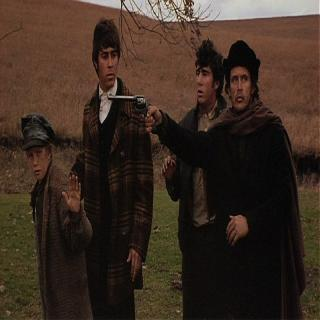gun: (104, 86, 159, 135)
